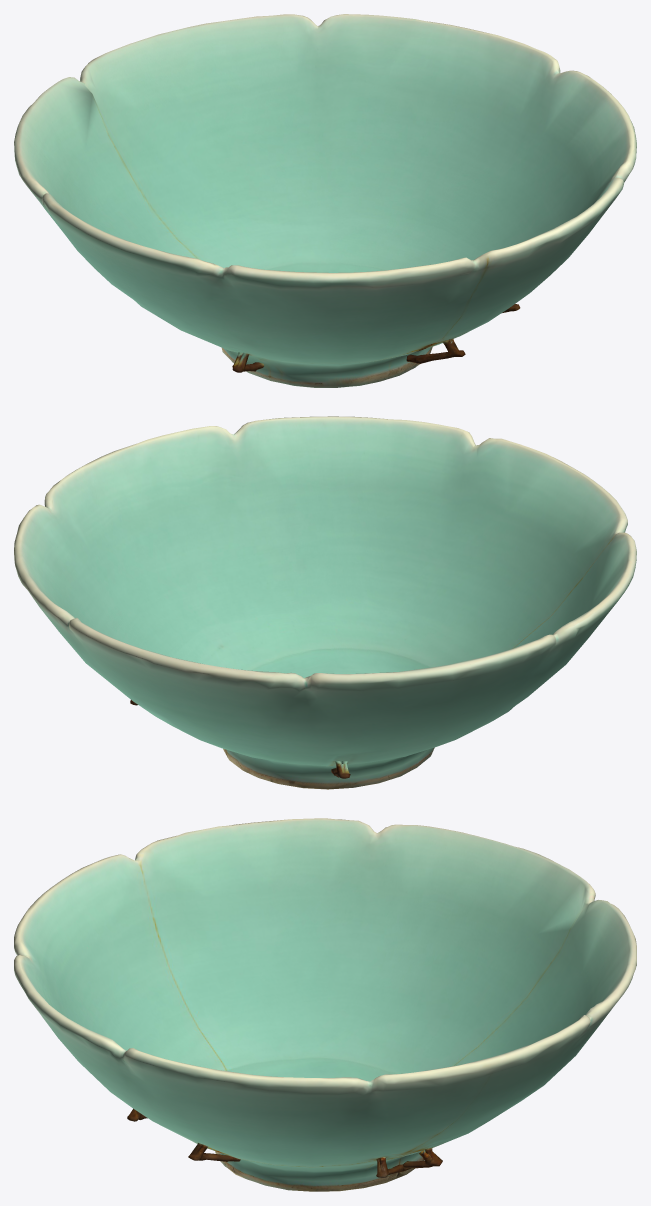
Rendered from assets__models__staple-2.glb.
3 views of the same model, one above another, from view 1: azimuth 30°, elevation 25°; view 2: azimuth 150°, elevation 25°; view 3: azimuth 270°, elevation 25° (orthographic).
Visible parts, largest first — view 1: tripo_node_da3ba3c6-6425-4b47-85c8-53f6283e8ab0; view 2: tripo_node_da3ba3c6-6425-4b47-85c8-53f6283e8ab0; view 3: tripo_node_da3ba3c6-6425-4b47-85c8-53f6283e8ab0.
Part boxes in pixels (x1=…): tripo_node_da3ba3c6-6425-4b47-85c8-53f6283e8ab0: x1=14, y1=14, x2=636, y2=387; tripo_node_da3ba3c6-6425-4b47-85c8-53f6283e8ab0: x1=14, y1=416, x2=636, y2=789; tripo_node_da3ba3c6-6425-4b47-85c8-53f6283e8ab0: x1=14, y1=818, x2=636, y2=1191.
Bounding box in the file's own units: 0.998 × 0.3537 × 0.998.
Materials: 1 (1 with a texture image).
